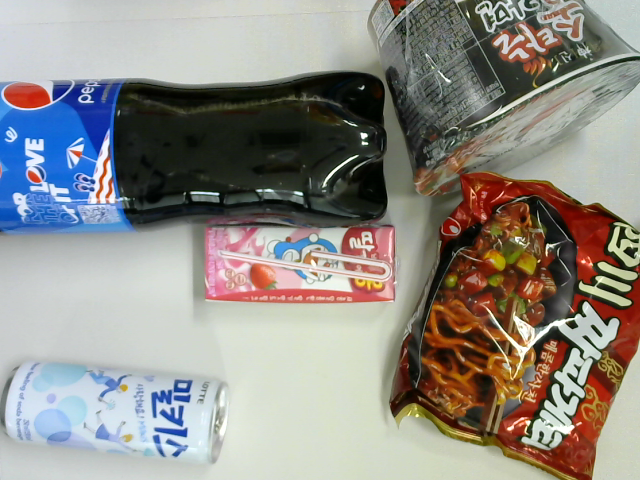HeJangsock: (366, 1, 639, 201)
Milkies_250ml: (1, 359, 230, 466)
Pepsi_Cola_1.5L: (1, 69, 389, 233)
Sichuan_Chapaghetti: (389, 168, 640, 480)
Strawberry_E_Mong: (202, 221, 398, 307)
